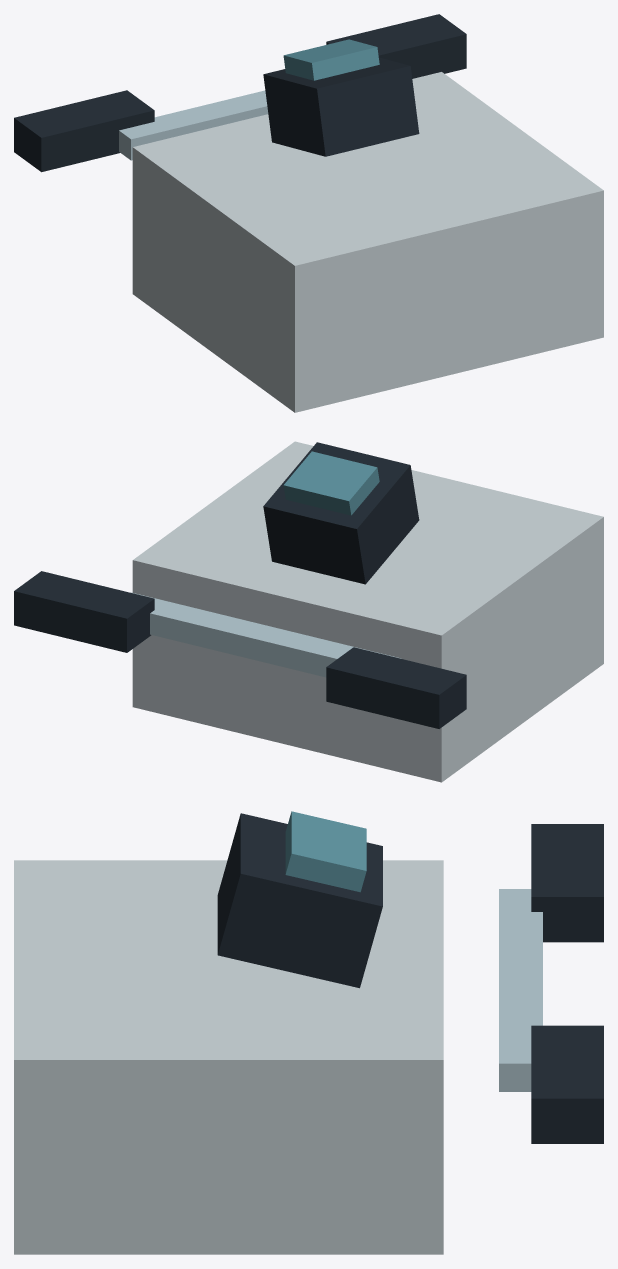
File: xiaofu.glb
3 views of the same model, one above another, from view 1: azimuth 30°, elevation 25°; view 2: azimuth 150°, elevation 25°; view 3: azimuth 270°, elevation 25° (orthographic). The views are drawn at different scales.
Parts seen in each view (by area): view 1: front_cowl, cluster_housing, grip, grip.001, bar, display; view 2: front_cowl, cluster_housing, grip, grip.001, display, bar.001, bar; view 3: front_cowl, cluster_housing, grip.001, grip, display, bar.001, bar.
Boxes of the visible parts, x1=… form: front_cowl: x1=132, y1=72, x2=603, y2=412; cluster_housing: x1=263, y1=57, x2=419, y2=156; grip: x1=14, y1=90, x2=154, y2=172; grip.001: x1=326, y1=14, x2=466, y2=78; bar: x1=119, y1=93, x2=267, y2=160; display: x1=283, y1=39, x2=379, y2=80; front_cowl: x1=132, y1=441, x2=603, y2=782; cluster_housing: x1=263, y1=442, x2=419, y2=584; grip: x1=326, y1=647, x2=466, y2=728; grip.001: x1=14, y1=571, x2=154, y2=652; display: x1=283, y1=451, x2=379, y2=515; bar.001: x1=131, y1=592, x2=272, y2=656; bar: x1=243, y1=624, x2=401, y2=677; front_cowl: x1=14, y1=860, x2=443, y2=1254; cluster_housing: x1=217, y1=813, x2=382, y2=988; grip.001: x1=531, y1=1025, x2=603, y2=1143; grip: x1=531, y1=824, x2=603, y2=942; display: x1=285, y1=811, x2=366, y2=892; bar.001: x1=499, y1=980, x2=542, y2=1091; bar: x1=499, y1=889, x2=542, y2=980.
Size of the model in its own units: 0.545 by 0.2982 by 0.4945.
